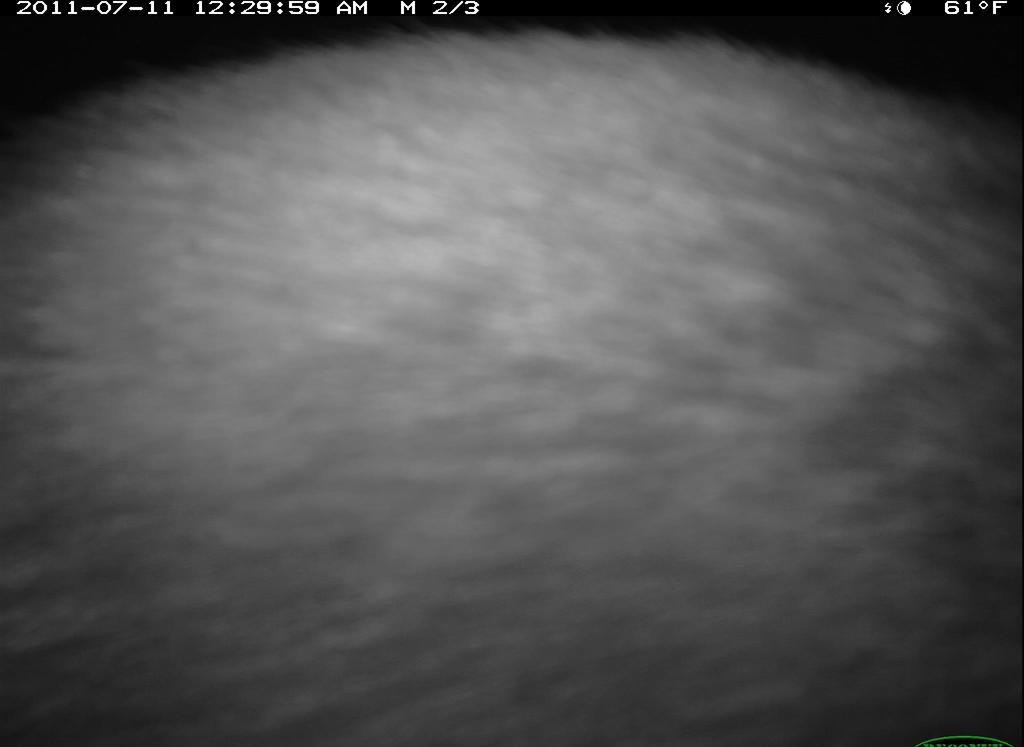raccoon: (7, 31, 1016, 740)
